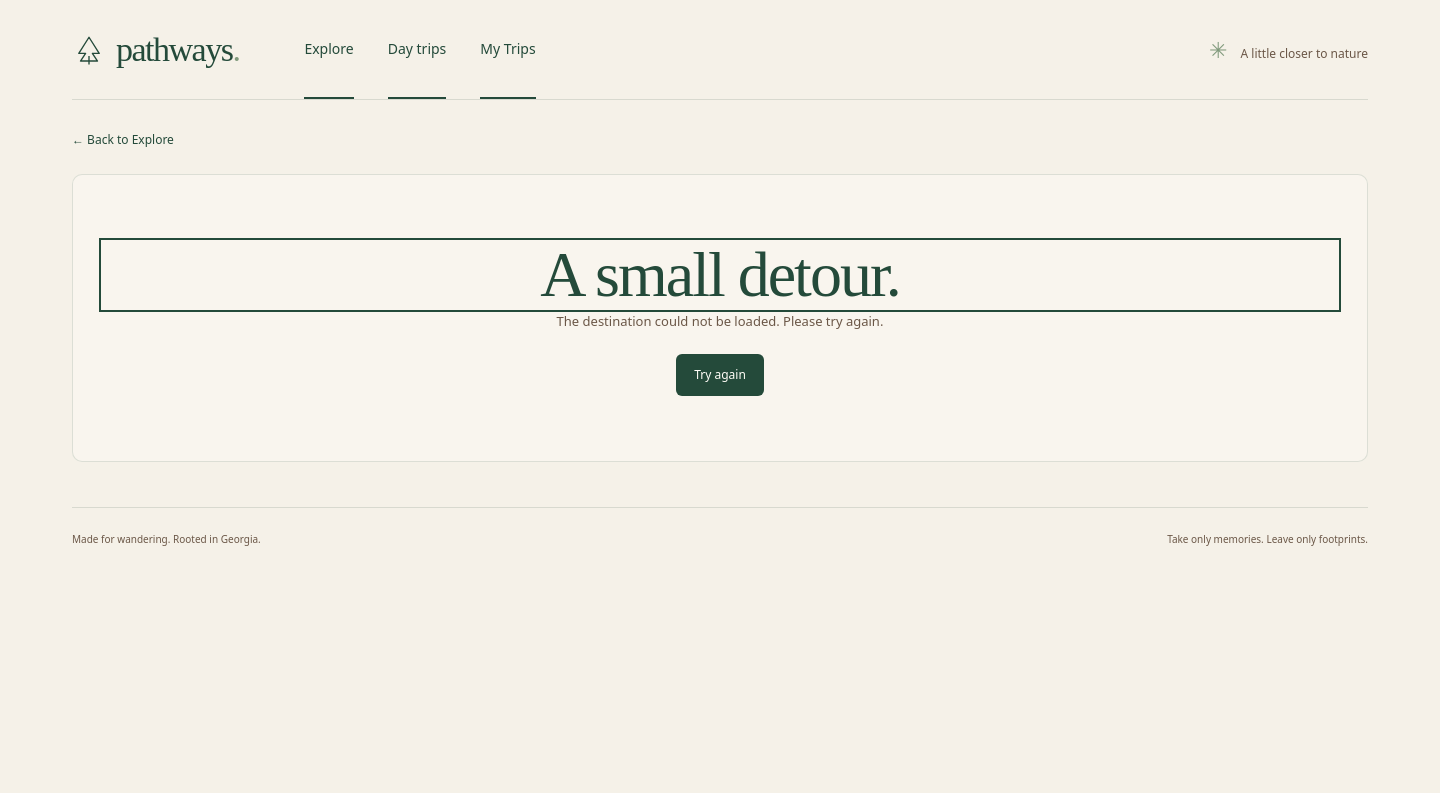
it: shows a retryable catalog error without substituting preview content
The width and height of the screenshot is (1440, 793).
Expected: the message shows "A small detour.", [540,239,900,310]
What coordinates should you click on to do the following:
click the button "Try again"
I would click on:
 (720, 375)
Its box is [676,354,764,396].
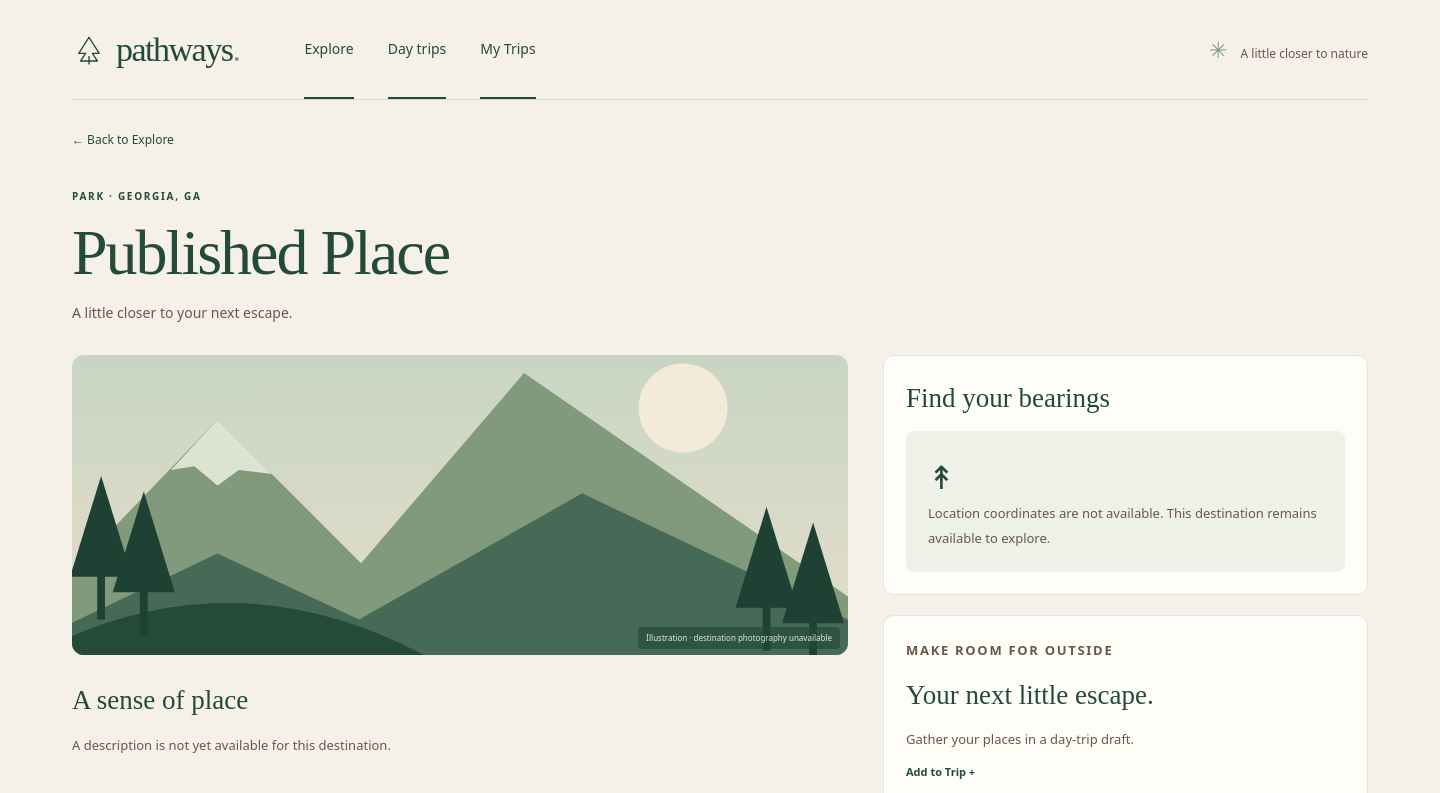
Expected: the heading "Published Place" is shown, [72,217,449,288]
